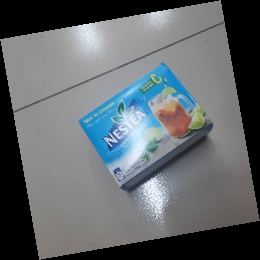Nestea: (77, 60, 214, 194)
